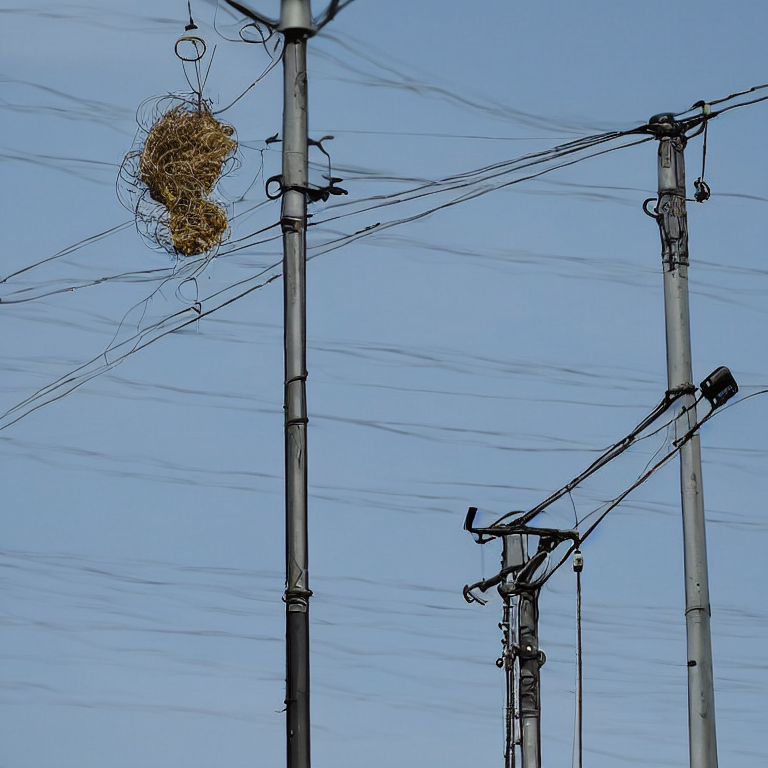nest: (137, 109, 231, 256)
